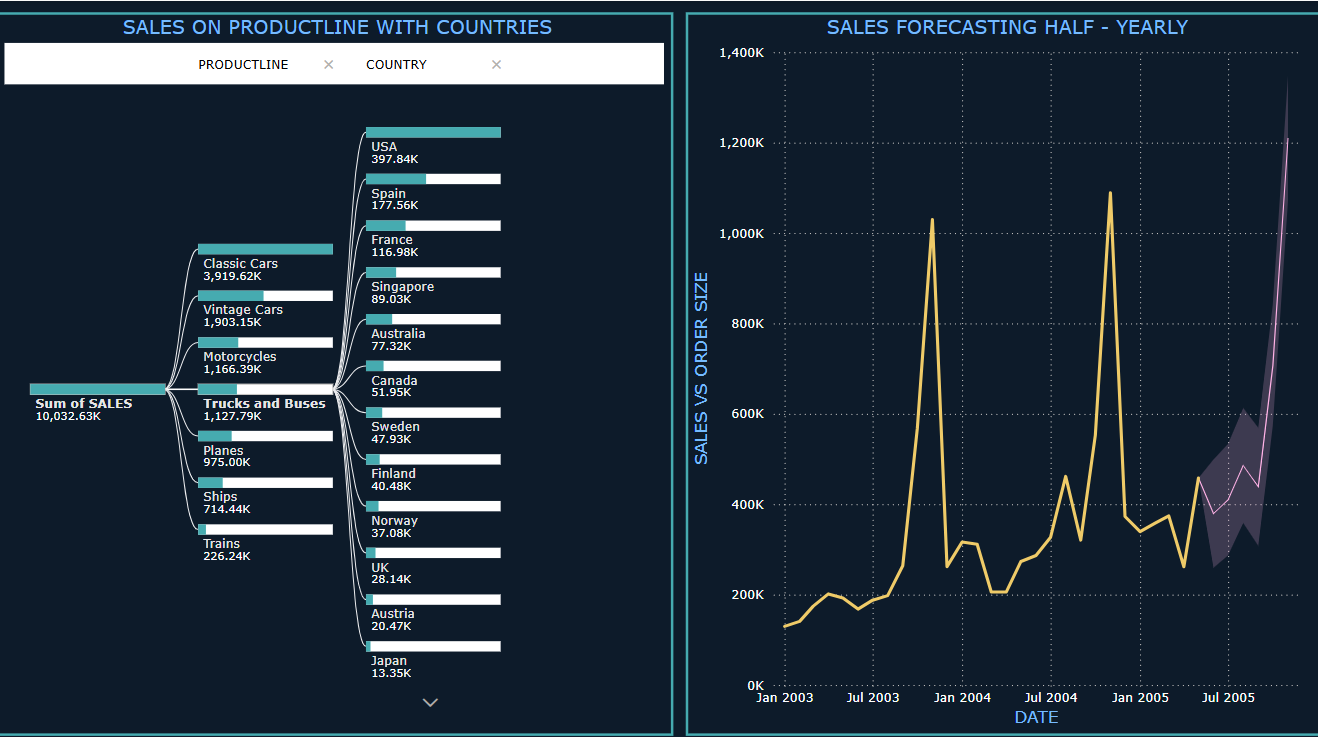

The page's visual inventory and layout, read from the dashboard file:
{"tool":"powerbi","page":{"name":"Page 2","canvas":[1280,720],"ordinal":1},"visuals":[{"type":"decompositionTreeVisual","title":"SALES ON PRODUCTLINE WITH COUNTRIES","fields":{"Analyze":["Sum(sales_data_sample.SALES)"],"ExplainBy":["sales_data_sample.PRODUCTLINE","sales_data_sample.COUNTRY"]},"box":[0,10.9,652.7,698.5],"z":0},{"type":"lineChart","title":"SALES FORECASTING HALF - YEARLY","fields":{"Category":["sales_data_sample.Combined_date"],"Y":["Sum(sales_data_sample.SALES)"]},"box":[664.2,11,616.1,698.5],"z":1000}]}

Visuals, with their boxes in screenshot pixels (x1, y1, x2, y2), scaled from the page's 1280x720 canvas onto the 1318x737 screenshot:
"SALES ON PRODUCTLINE WITH COUNTRIES" decompositionTreeVisual: {"left": 0, "top": 11, "right": 672, "bottom": 726}
"SALES FORECASTING HALF - YEARLY" lineChart: {"left": 684, "top": 11, "right": 1317, "bottom": 726}
